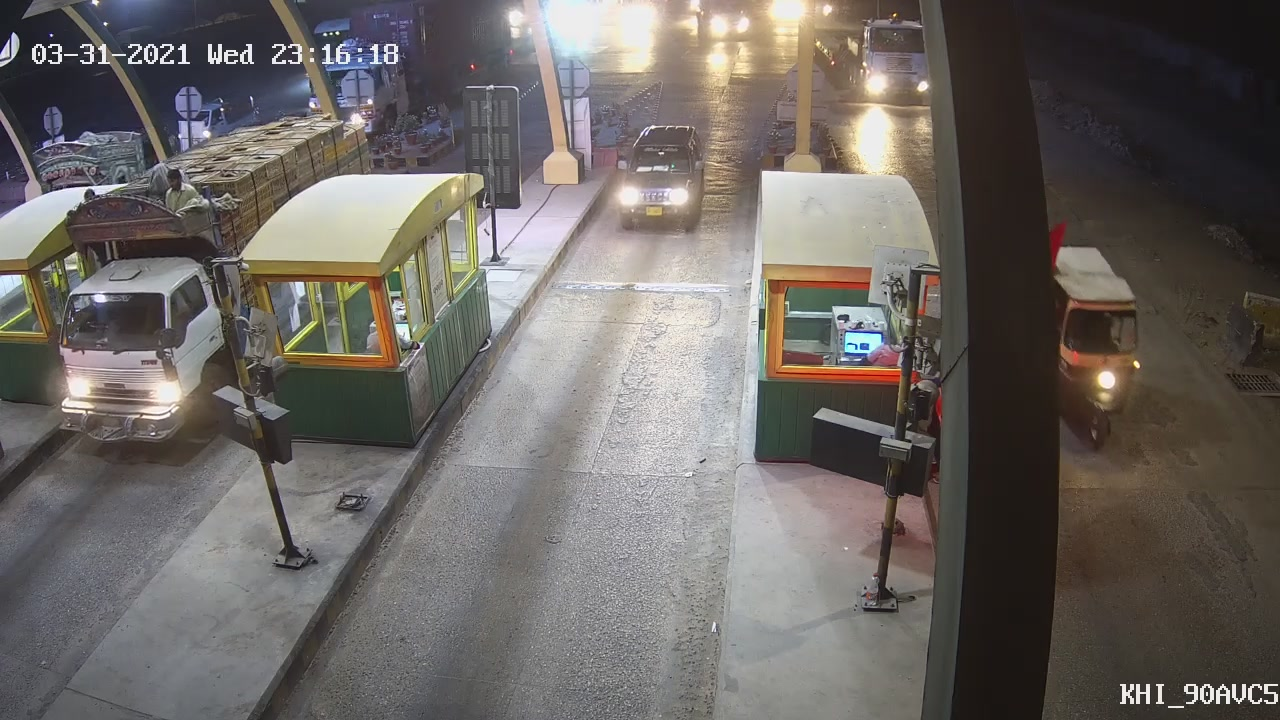F1: (606, 124, 709, 238)
